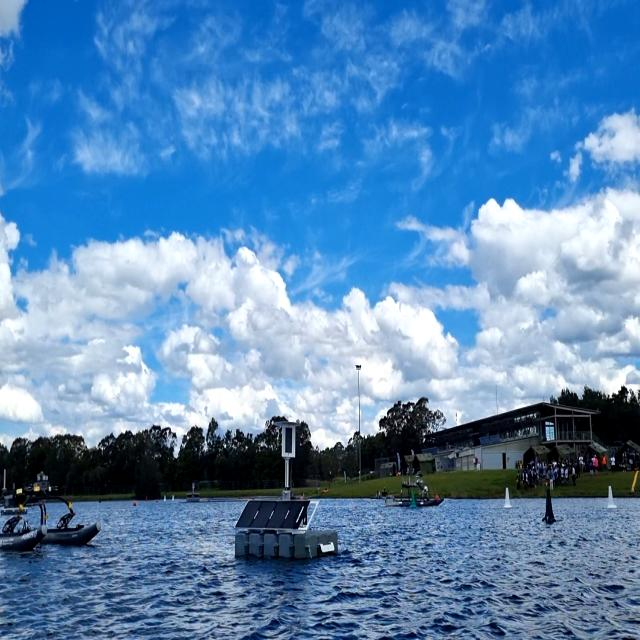led: (284, 425, 294, 456)
